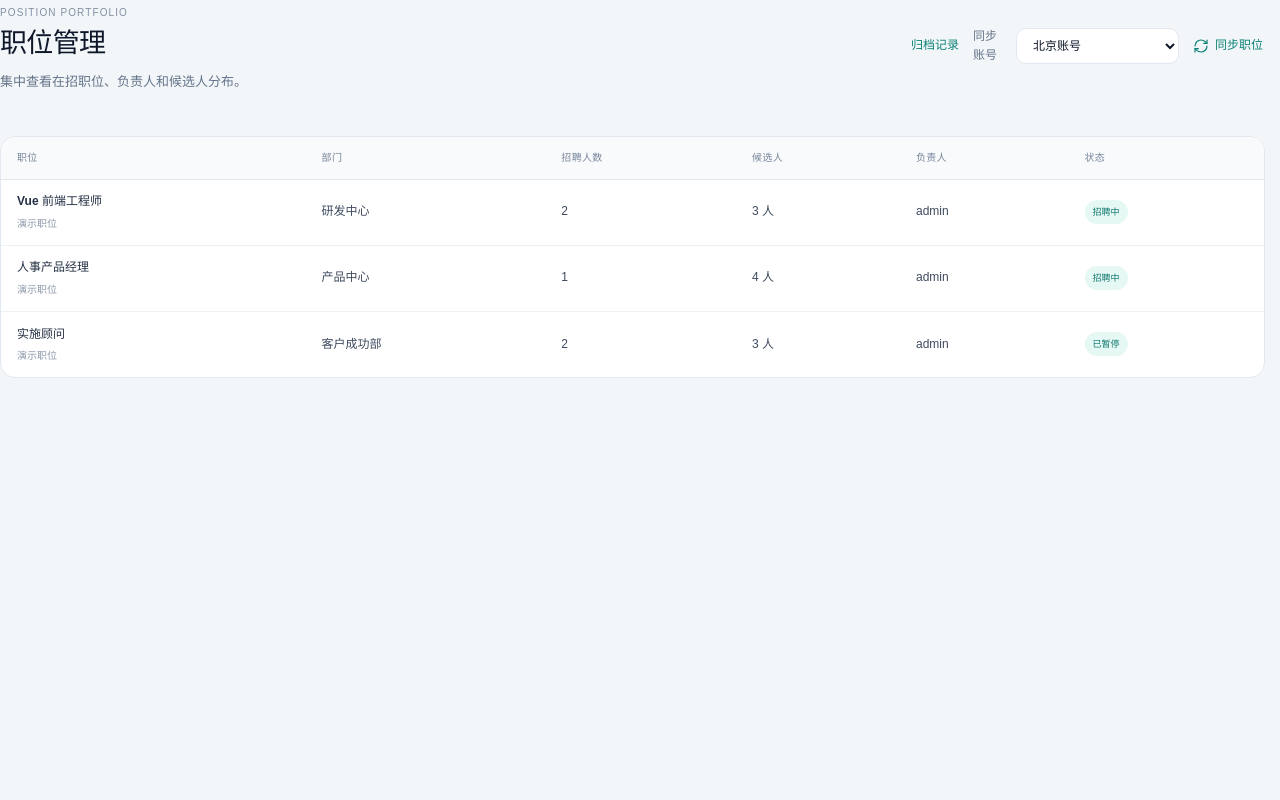
Scenario: RecruitmentJobsView › renders three jobs and opens row details
Click the row "Vue 前端工程师 演示职位 研发中心 2 3 人 admin 招聘中" at (632, 212), box [1,179,1264,245]
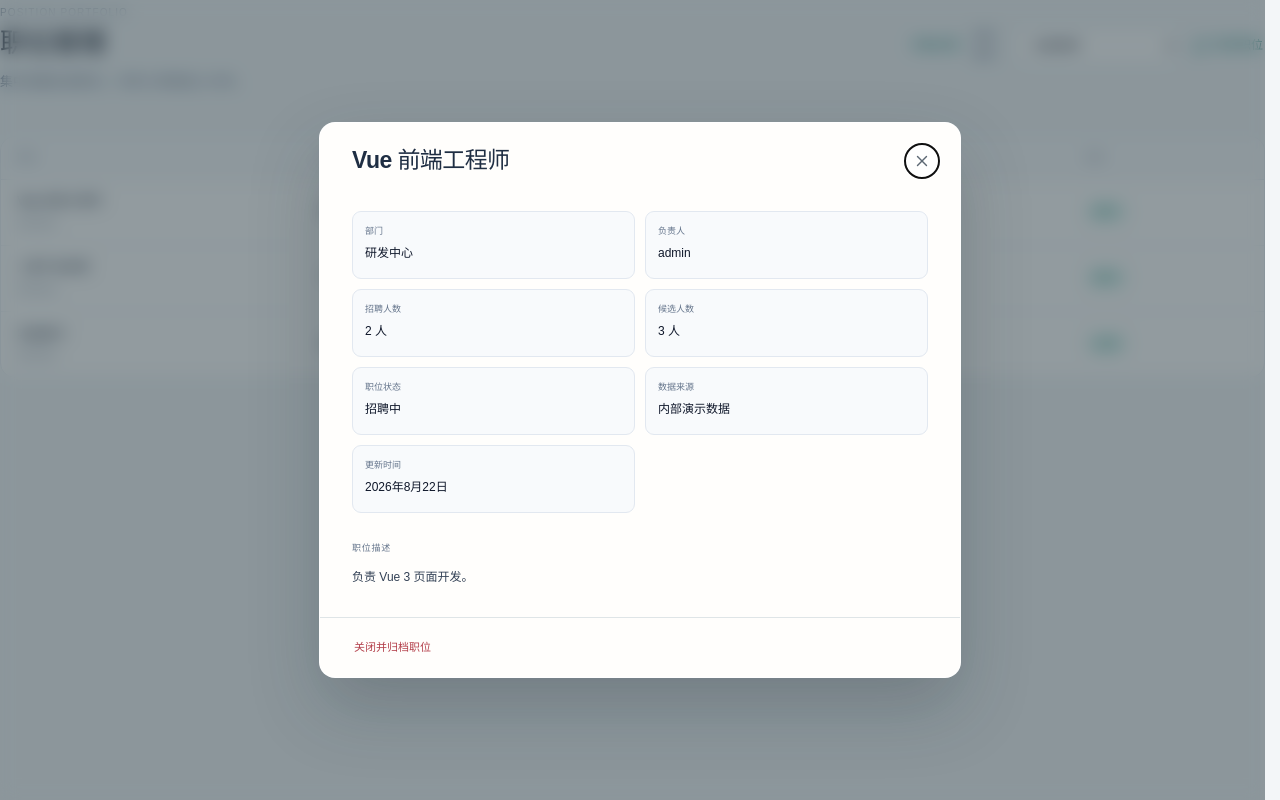
expect the text "负责 Vue 3 页面开发。" is shown: met, box [352,570,474,584]
expect the text "内部演示数据" is shown: met, box [658,402,730,416]
